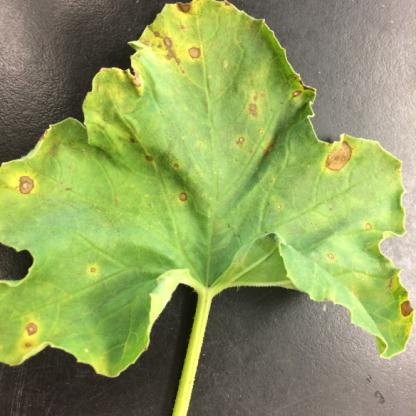AlternariaBrassicicola: (325, 141, 353, 174), (243, 88, 271, 118), (16, 172, 38, 196), (172, 0, 198, 16), (399, 296, 415, 319), (322, 244, 340, 264), (360, 218, 379, 236), (84, 261, 102, 278), (187, 43, 202, 62), (25, 320, 40, 338), (177, 189, 191, 204)
